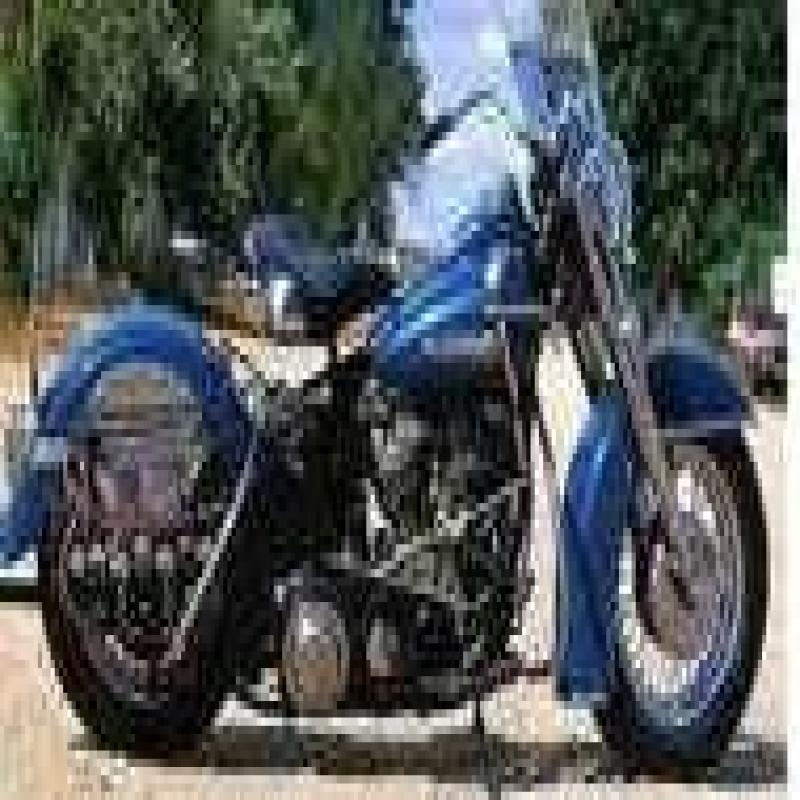bike: (20, 27, 773, 793)
